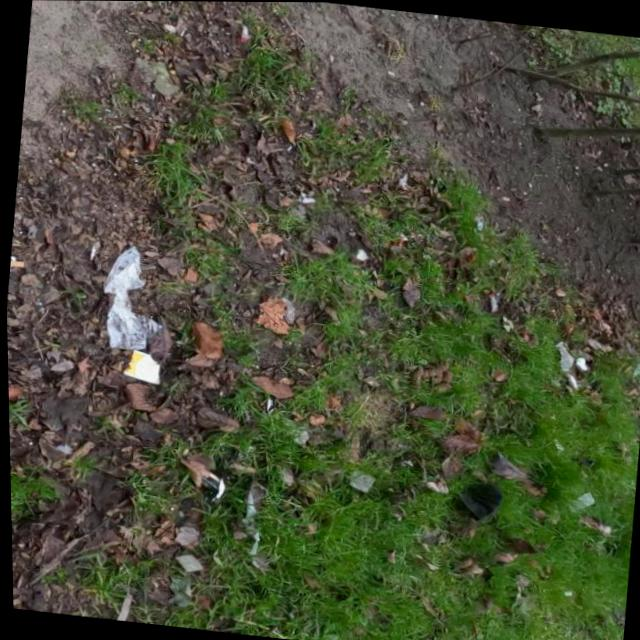Mask: (449, 477, 504, 521)
Paper: (119, 347, 162, 383)
Plastic: (94, 241, 171, 353), (195, 453, 227, 501), (485, 291, 498, 310), (397, 171, 408, 188)
